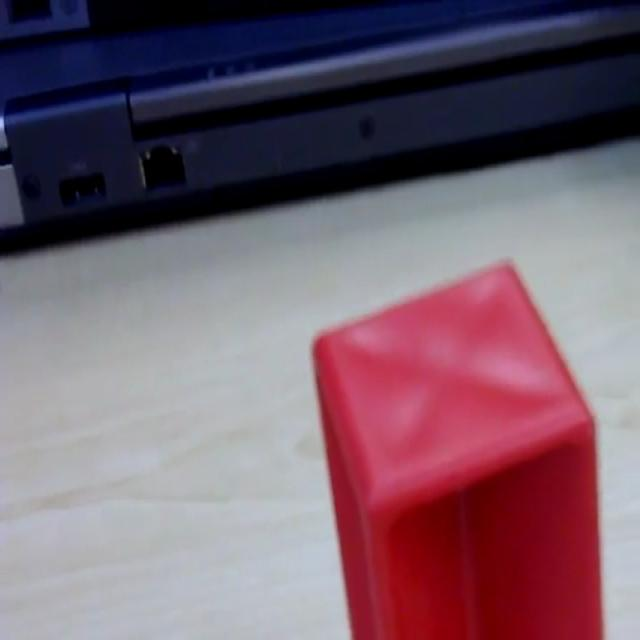red_block: (310, 256, 605, 636)
